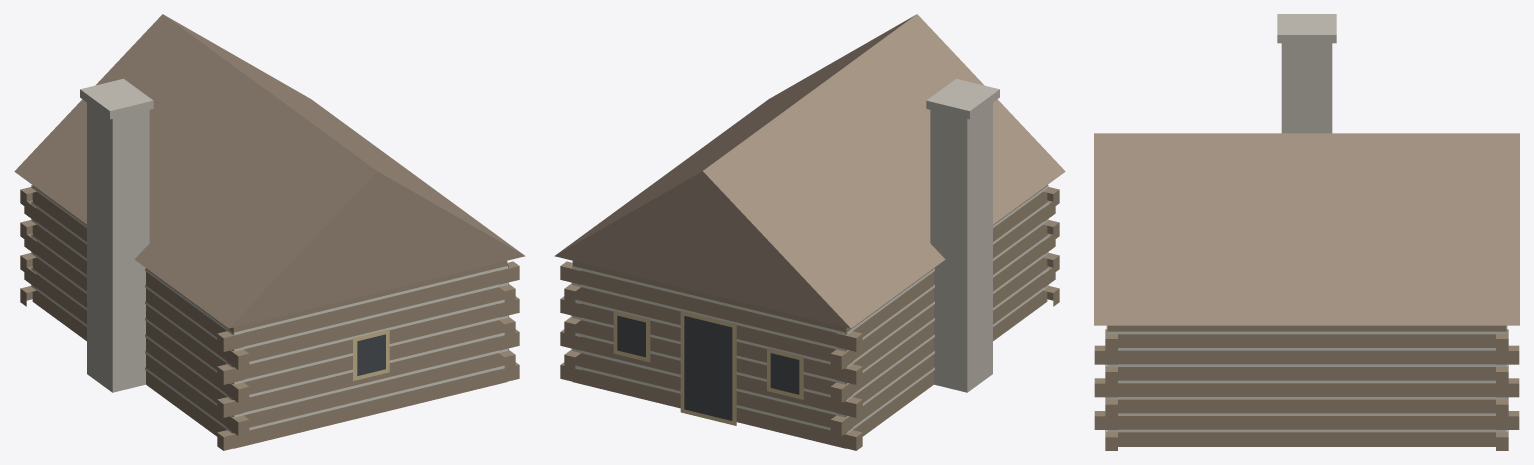
Rendered from recon_1835_blk_randolph_dearborn_d1_04__inferred_1835.glb.
3 renders of one model, left to right at view 1: azimuth 30°, elevation 25°; view 2: azimuth 150°, elevation 25°; view 3: azimuth 270°, elevation 25°, orthographic.
Parts seen in each view (by area): view 1: recon_1835_blk_randolph_dearborn_d1_04__inferred_1835; view 2: recon_1835_blk_randolph_dearborn_d1_04__inferred_1835; view 3: recon_1835_blk_randolph_dearborn_d1_04__inferred_1835.
Boxes of the visible parts, x1=… form: recon_1835_blk_randolph_dearborn_d1_04__inferred_1835: x1=14, y1=14, x2=525, y2=450; recon_1835_blk_randolph_dearborn_d1_04__inferred_1835: x1=554, y1=14, x2=1065, y2=450; recon_1835_blk_randolph_dearborn_d1_04__inferred_1835: x1=1094, y1=14, x2=1519, y2=450.
Size of the model in its own units: 6.98 by 5.93 by 8.02.
